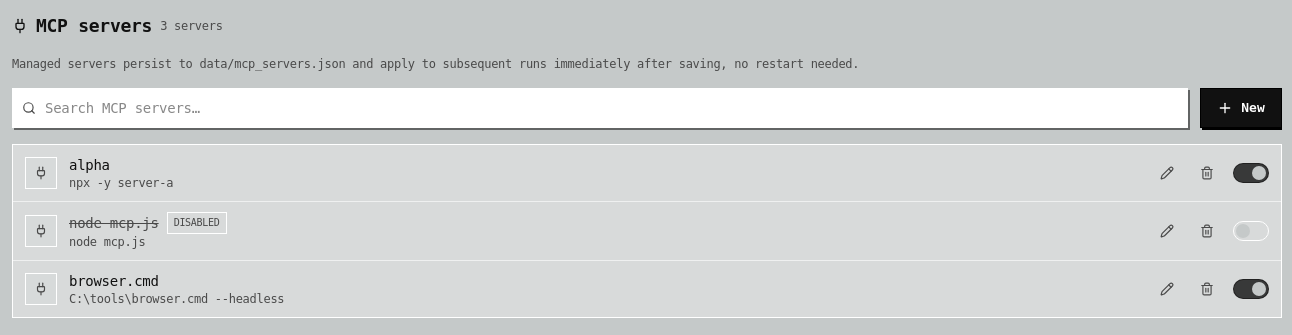
Test: McpSection list › filters the list by name, command, and basename
Expected: the text "alpha" is shown, 69,155 -> 110,175
In the field with placeholder "Search MCP servers…": (600, 108) 12,88 -> 1188,128, type "browser"
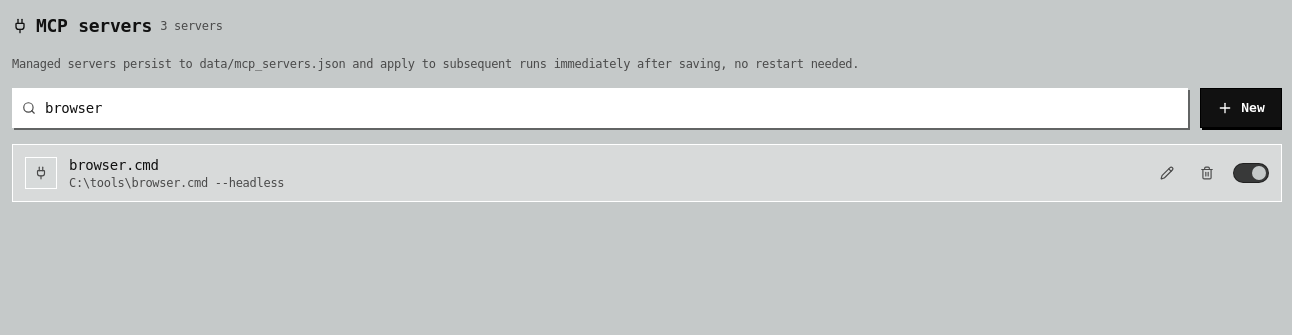
Expected: the text "browser.cmd" is shown, 69,155 -> 159,175
Result: the text "alpha" is gone
Case-insensitive, and the raw command matches too.
Replace the text in the field with placeholder "Search MCP servers…" with "NPX -Y": (600, 108) 12,88 -> 1188,128
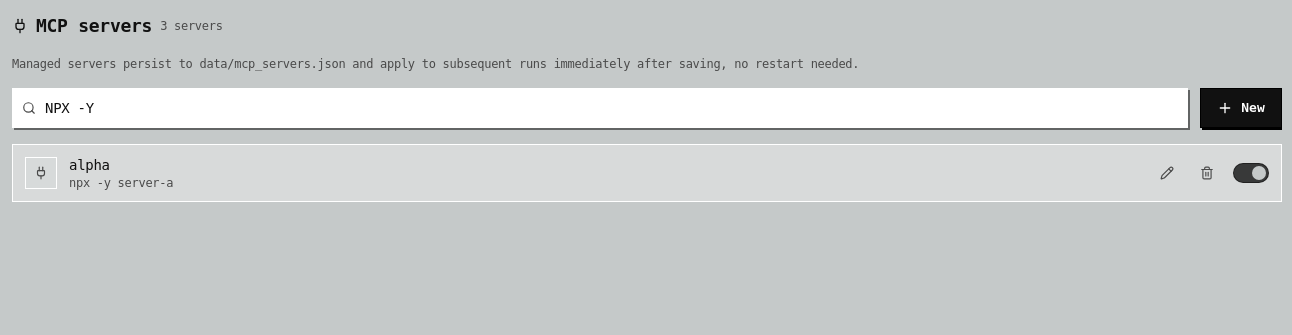
Result: the text "alpha" is shown at 69,155 -> 110,175
Result: the text "browser.cmd" is gone
Replace the text in the field with placeholder "Search MCP servers…" with "nothing-here": (600, 108) 12,88 -> 1188,128
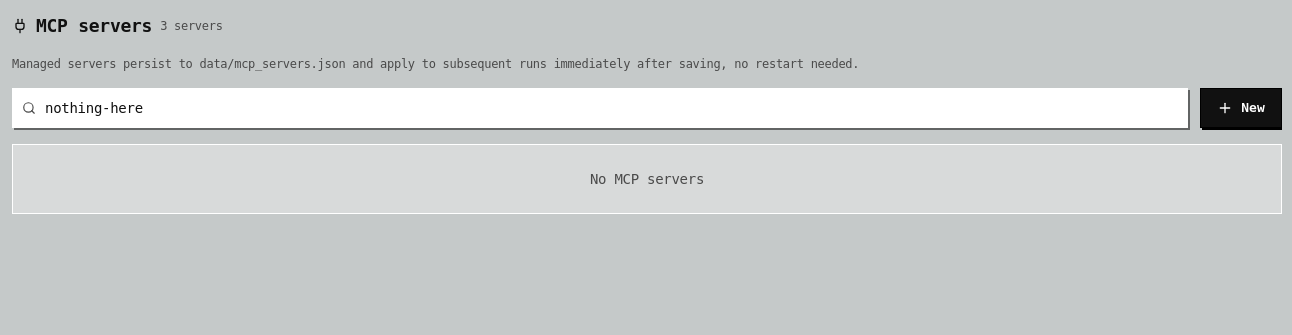
Result: the text "No MCP servers" is shown at 590,171 -> 704,187
